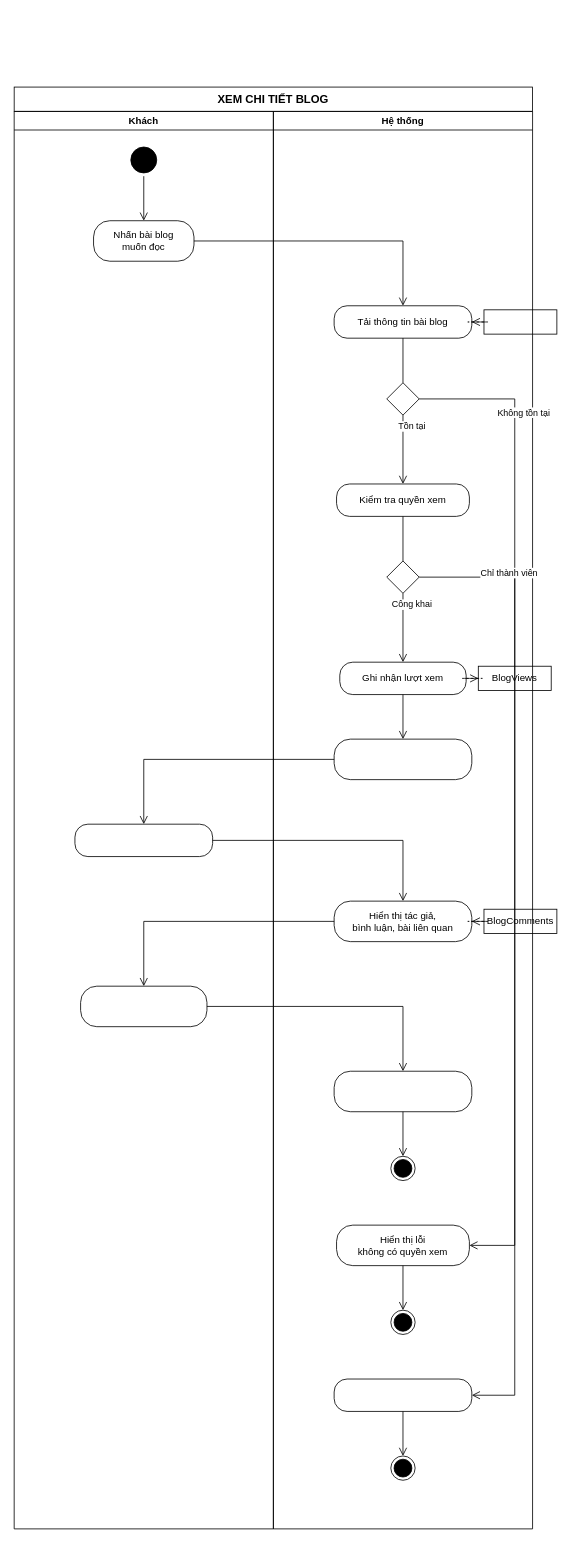
Some shapes in this 571 by 1567 pixel diagram are drawn without their labels. The shapes that lost their labels are listed below. From the top down, each one's centre as x and y in pixels, then its label:
(520,321): Blogs
(402,759): Hiển thị nội dung và thông tin bài viết
(143,840): Đọc nội dung bài blog
(143,1006): Chọn thao tác phụ nếu cần
(402,1091): Xử lý chia sẻ, điều hướng hoặc đăng nhập
(402,1394): Hiển thị trang lỗi 404
